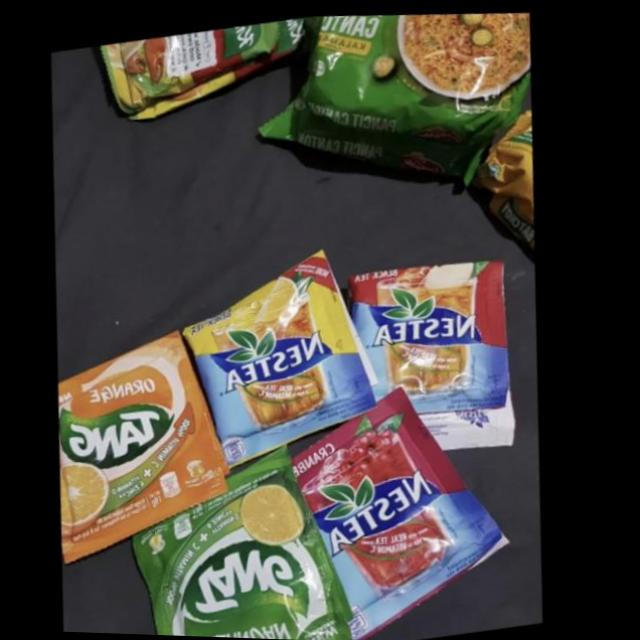bao_bi_thuc_pham: (258, 11, 532, 192)
goi_nhua_nho: (298, 384, 518, 640), (138, 442, 362, 640), (188, 246, 383, 464), (63, 326, 236, 558), (351, 259, 522, 449)
